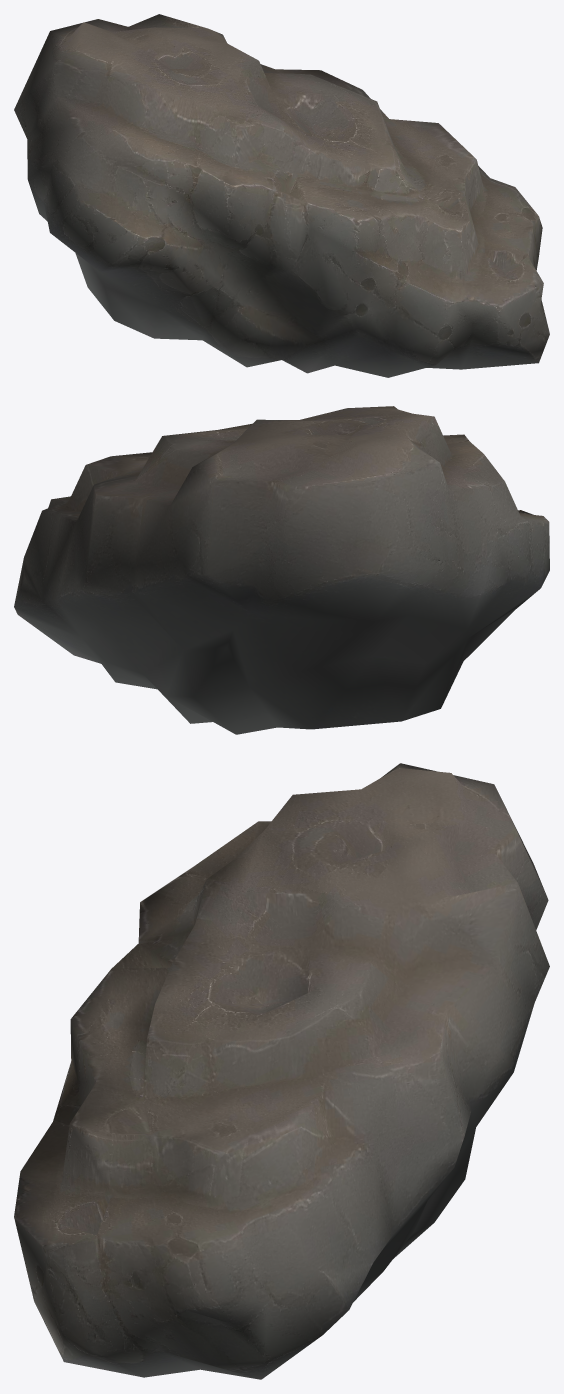
Rendered from SM_Asteroid_04.fbx.
3 renders of one model, top to bottom at view 1: azimuth 30°, elevation 25°; view 2: azimuth 150°, elevation 25°; view 3: azimuth 270°, elevation 25°, orthographic. The views are drawn at different scales.
Visible parts, largest first — view 1: SM_Asteroid_04; view 2: SM_Asteroid_04; view 3: SM_Asteroid_04.
Part boxes in pixels (left/top/right/bottom): SM_Asteroid_04: left=14, top=14, right=549, bottom=377; SM_Asteroid_04: left=14, top=406, right=549, bottom=734; SM_Asteroid_04: left=14, top=763, right=549, bottom=1379.
Bounding box in the file's own units: 76.38 × 98.03 × 65.58.
1 material, 1 textured.
